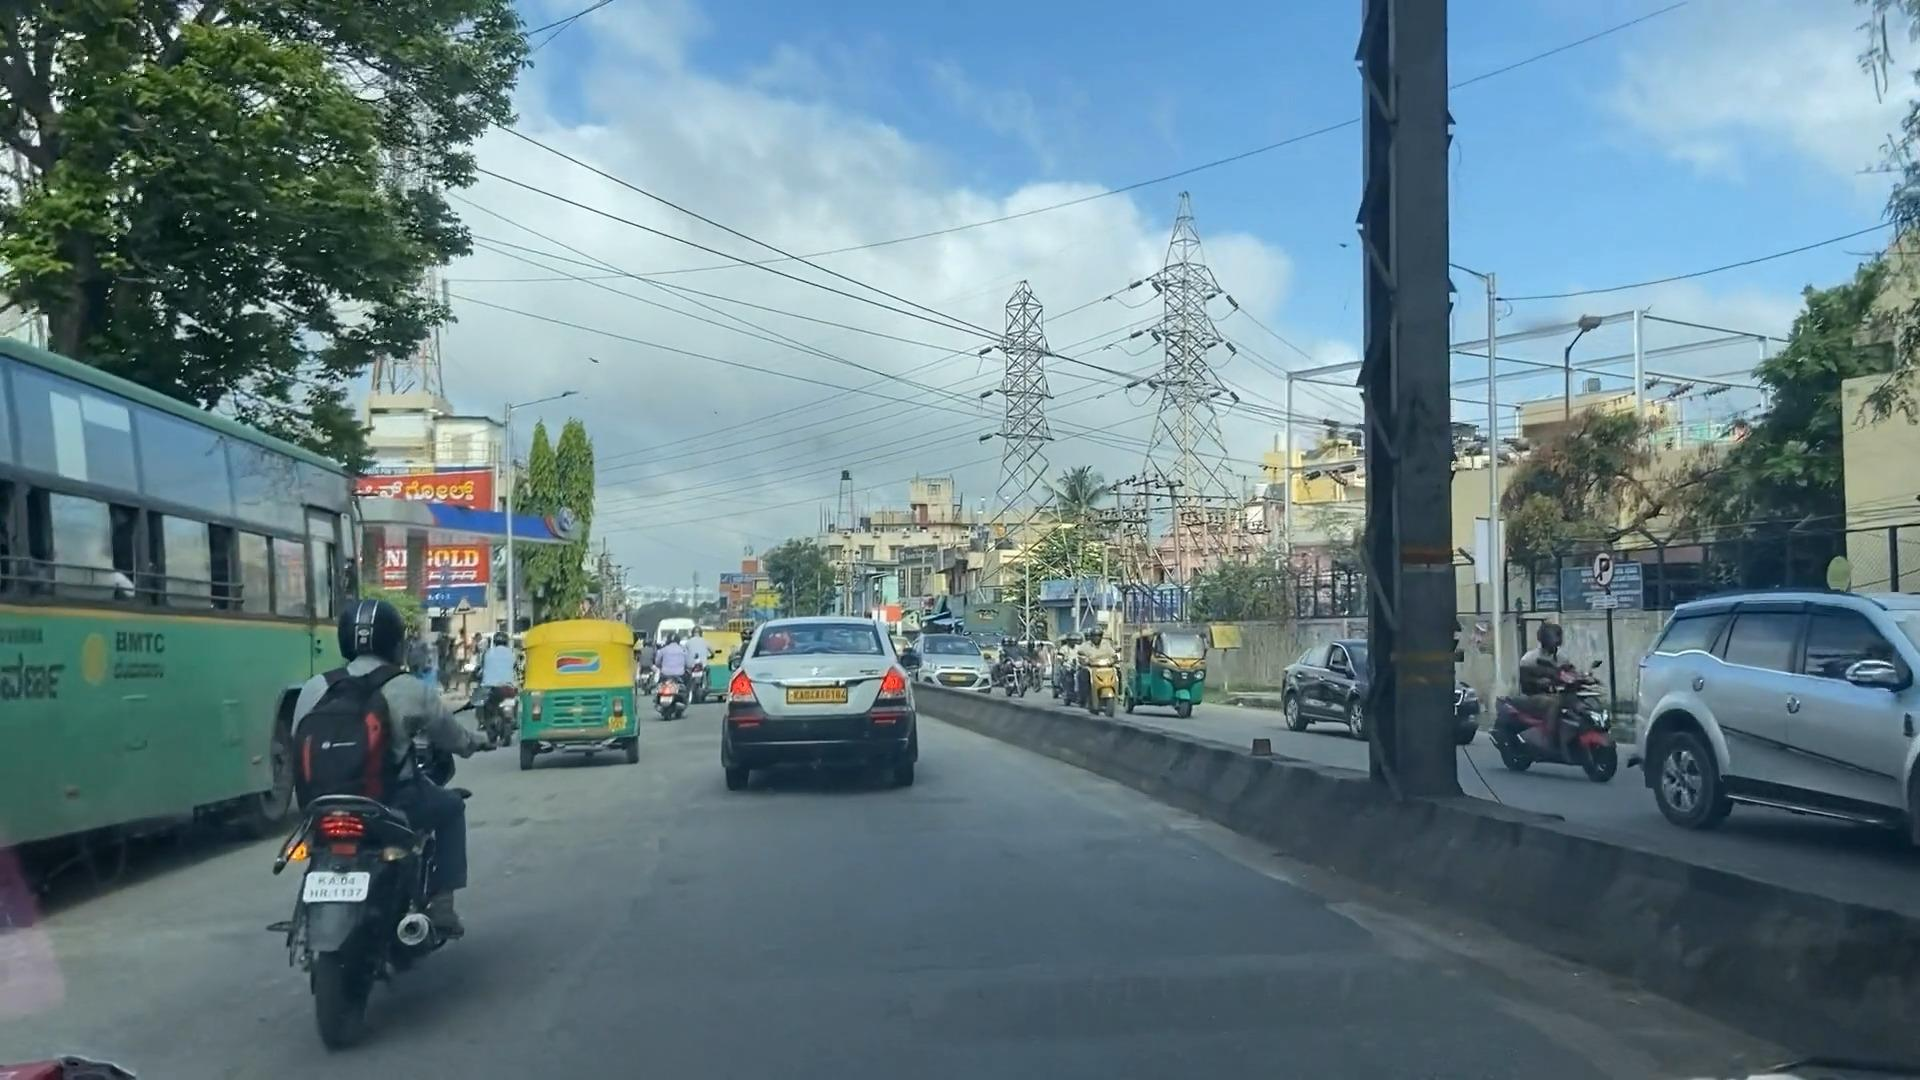LMV: (270, 588, 473, 1027), (720, 615, 915, 787), (514, 630, 637, 758)
RoadDamages: (538, 770, 705, 1060)
